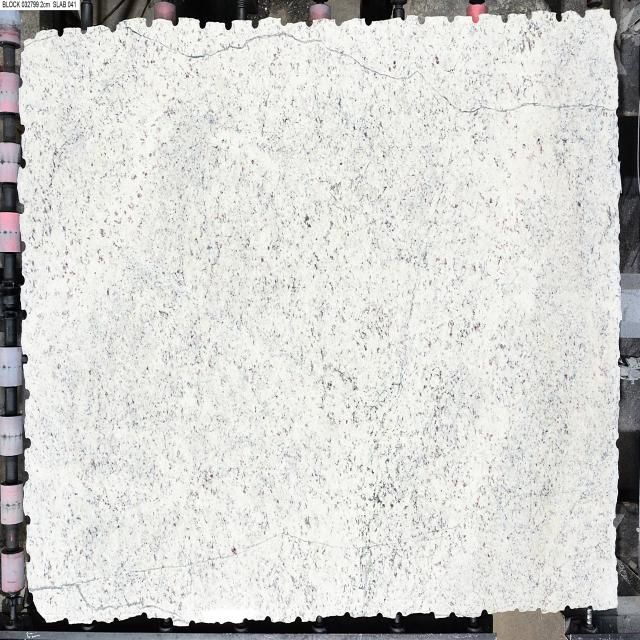chapa: (19, 12, 621, 623)
furo: (23, 582, 57, 628)
veio: (554, 10, 572, 28), (20, 436, 34, 454), (103, 22, 118, 38), (24, 551, 36, 569), (221, 17, 234, 32), (332, 14, 344, 30), (21, 512, 34, 525), (54, 26, 66, 39), (168, 15, 180, 28), (17, 238, 26, 255), (18, 199, 27, 216), (21, 468, 30, 484), (19, 156, 27, 174), (143, 15, 153, 29), (79, 24, 90, 36), (278, 16, 288, 29), (470, 15, 480, 28), (21, 352, 30, 366), (294, 615, 305, 626), (249, 18, 259, 30), (446, 12, 456, 24), (20, 308, 29, 321), (305, 16, 314, 28), (362, 16, 372, 26), (524, 8, 533, 19), (501, 12, 508, 26), (418, 13, 426, 25), (24, 388, 31, 401), (198, 18, 206, 29), (20, 124, 26, 138)
